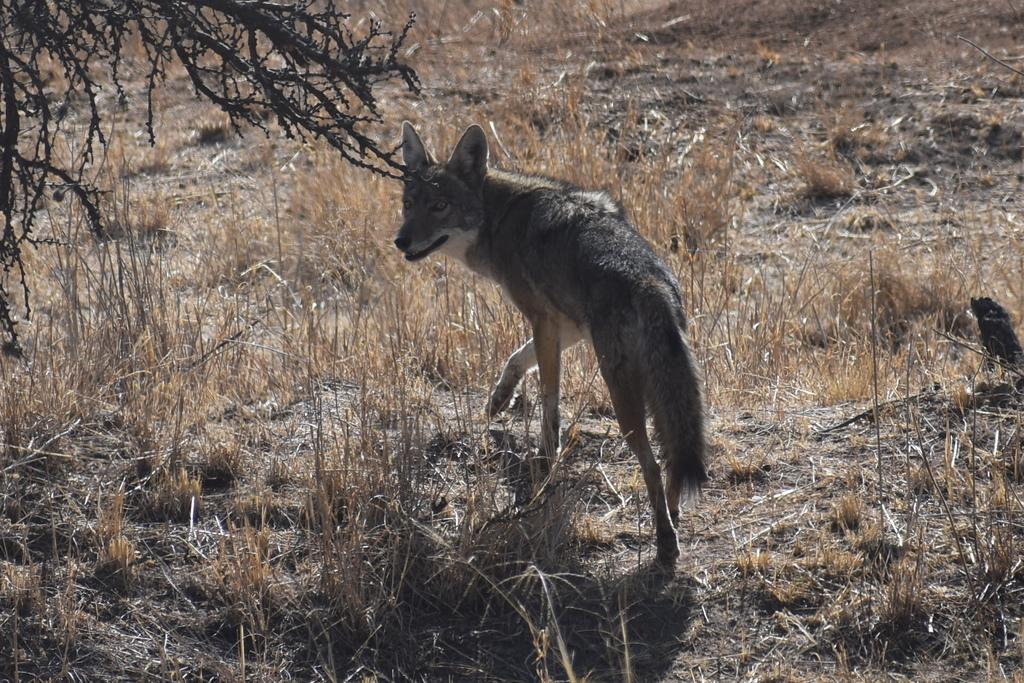Coyote: (391, 117, 714, 567)
